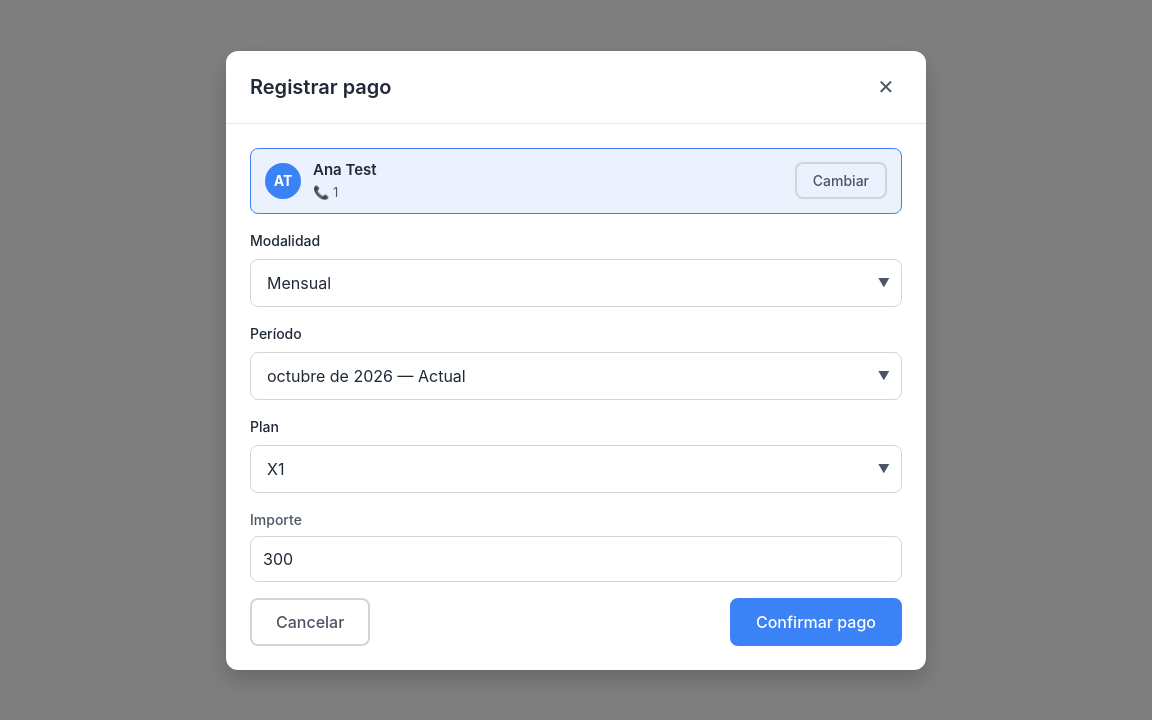
Test case: conserva abierto el diálogo si falla el registro
This screenshot has width=1152, height=720.
Click the button "Confirmar pago" at (816, 622), box [730, 598, 902, 646]
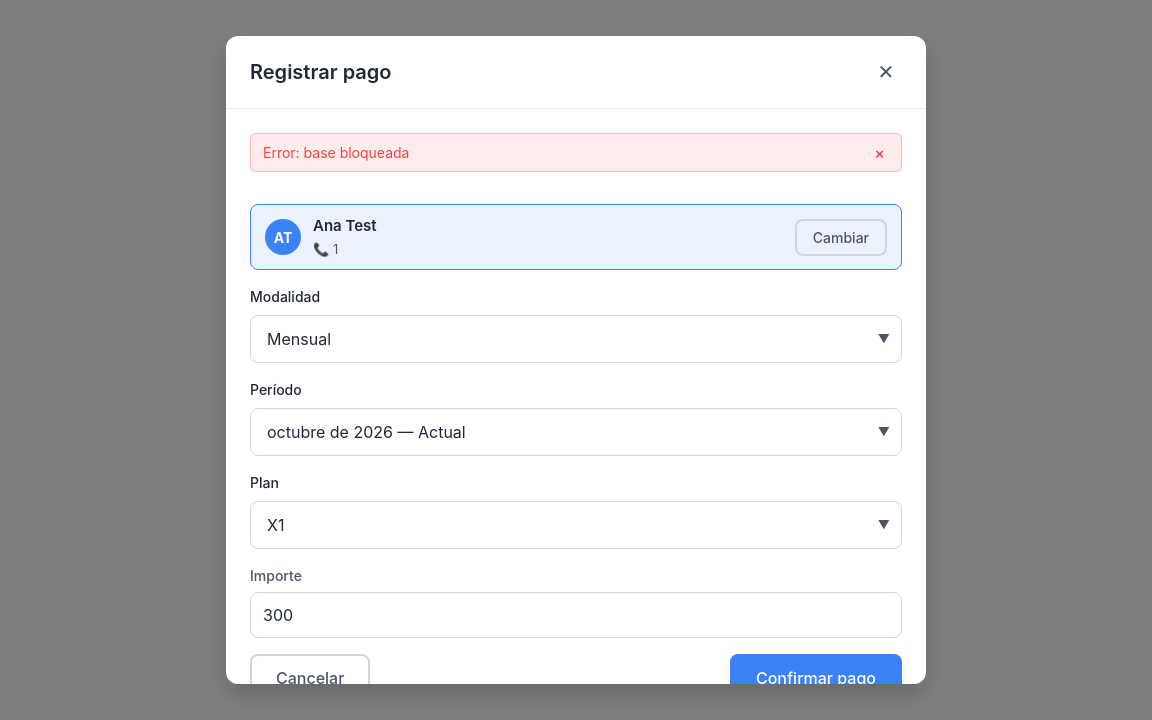
Expected: the text "Error: base bloqueada" is shown, [263, 144, 410, 161]
